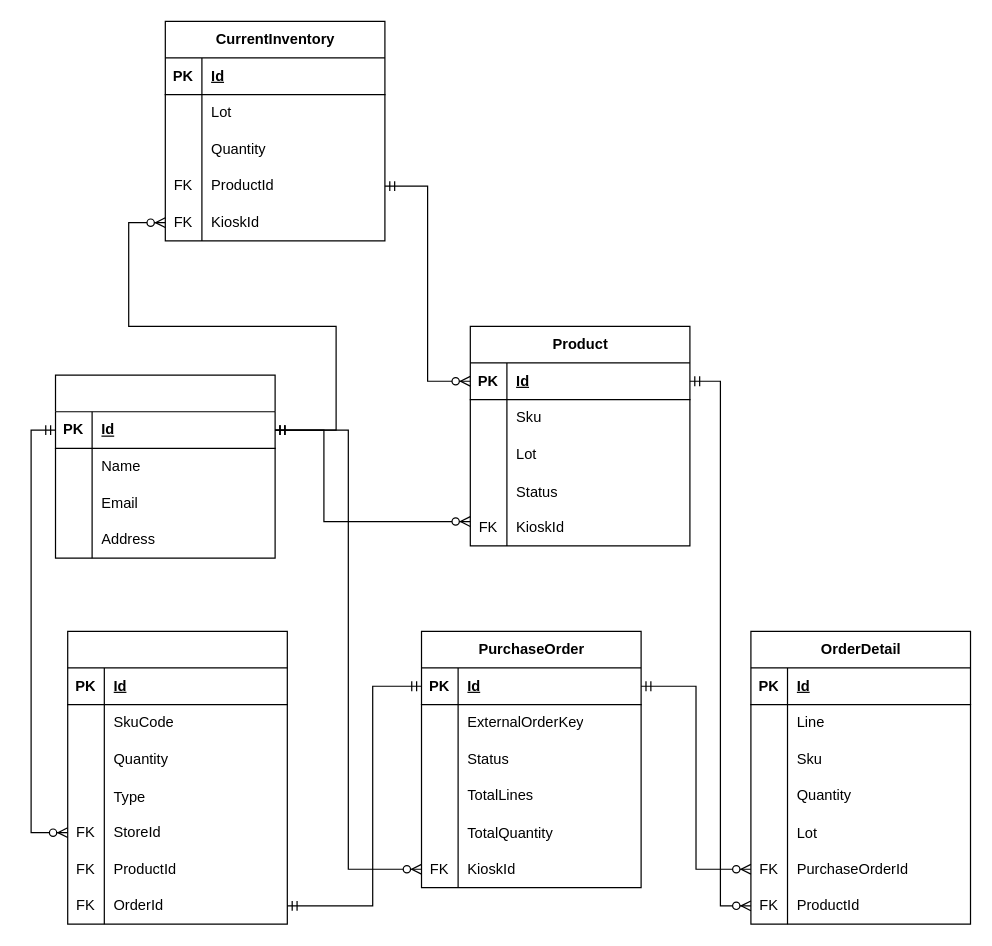
The diagram is 992 pixels wide and 946 high, and some of its shapes have lost their labels. The box of each missing label's shape, as (x1, y1, x2, y2) in pixels:
InventoryMovement: (66, 630, 287, 924)
Kiosk: (54, 374, 275, 558)
